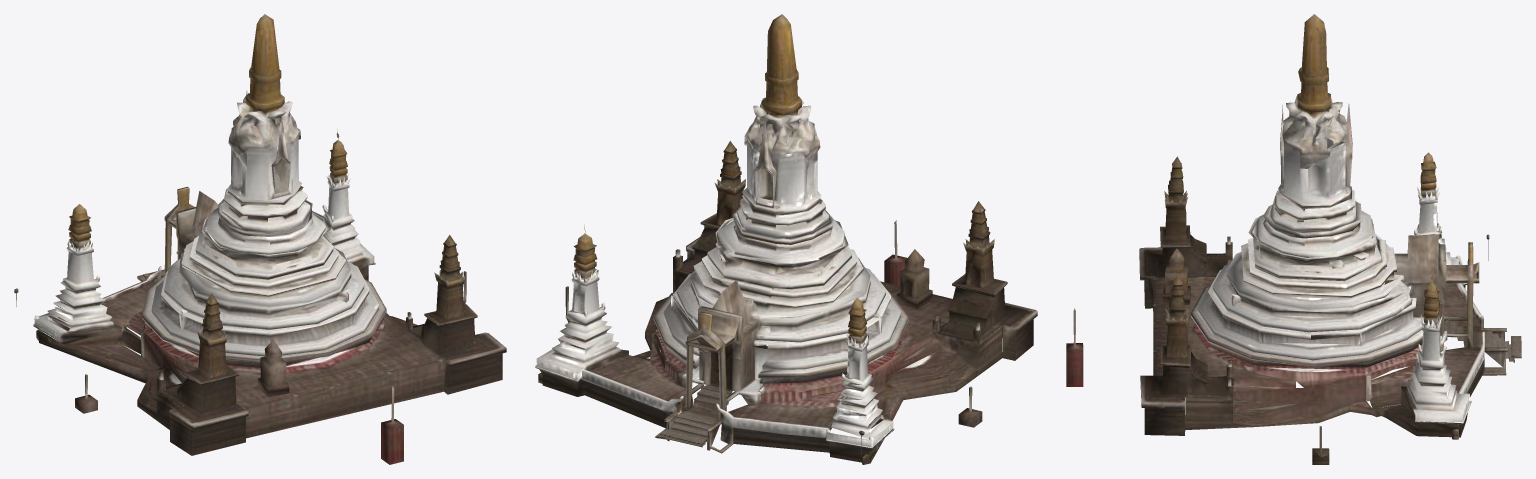
File: lm_wat_arun.glb
3 views of the same model, side by side, from view 1: azimuth 30°, elevation 25°; view 2: azimuth 150°, elevation 25°; view 3: azimuth 270°, elevation 25° (orthographic). The views are drawn at different scales.
Visible parts, largest first — view 1: Body; view 2: Body, Glow; view 3: Body.
Boxes of the visible parts, <box> form: Body: <box>14,14,506,464</box>; Body: <box>535,14,1037,464</box>; Glow: <box>538,117,878,446</box>; Body: <box>1066,14,1521,464</box>.
Size of the model in its own units: 35.11 by 30.97 by 35.04.
2 materials, 2 textured.
